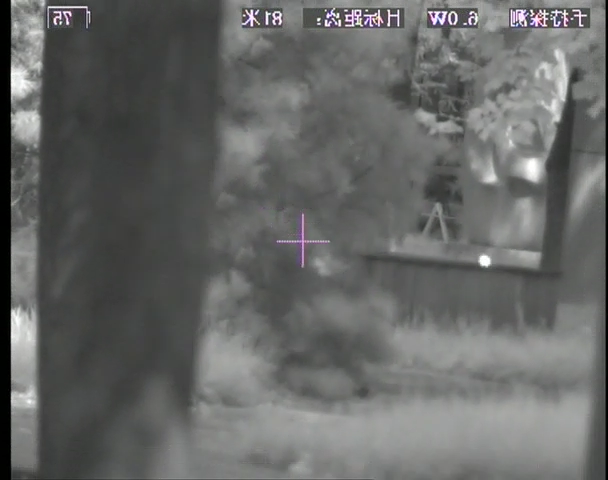my: (477, 252, 491, 268)
